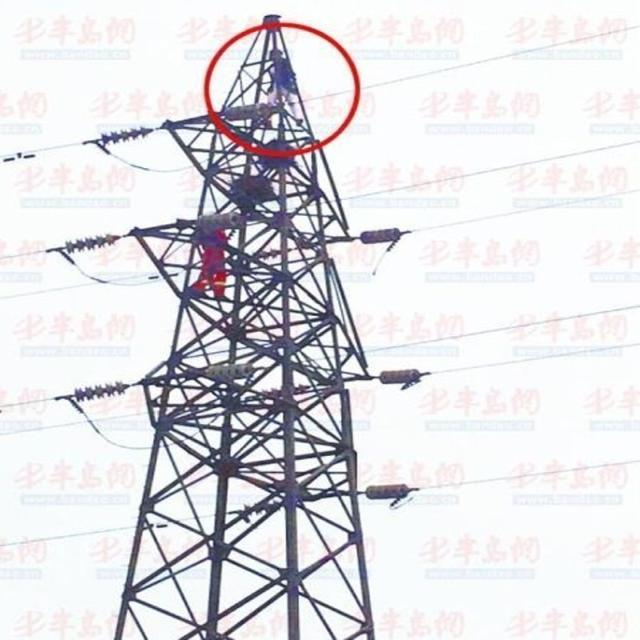non-critical vegetation: (90, 9, 400, 636)
